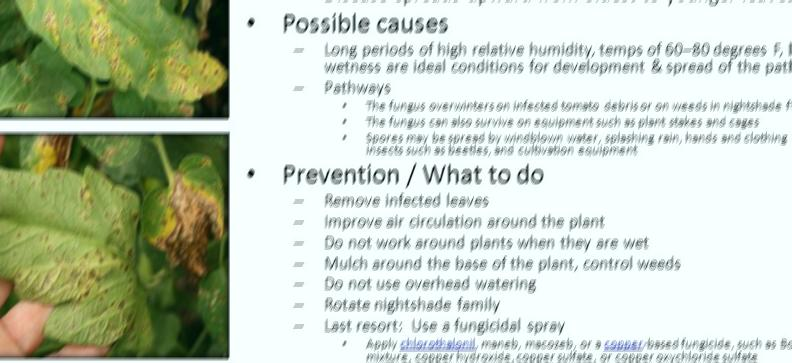Tomato Septoria leaf spot: (0, 165, 147, 347), (10, 0, 227, 104), (131, 144, 225, 286)
